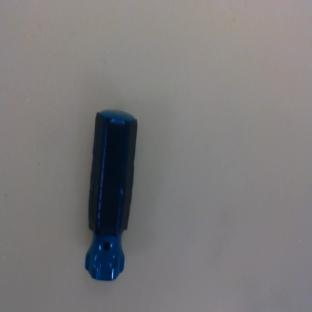part_2_bad: (83, 109, 139, 281)
